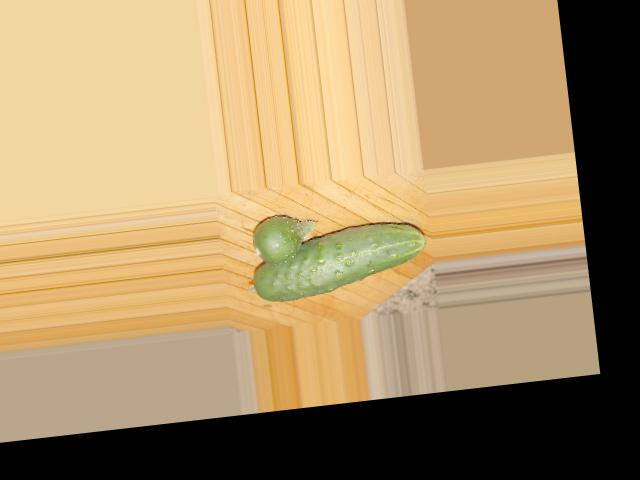cucumber: (247, 217, 431, 304)
